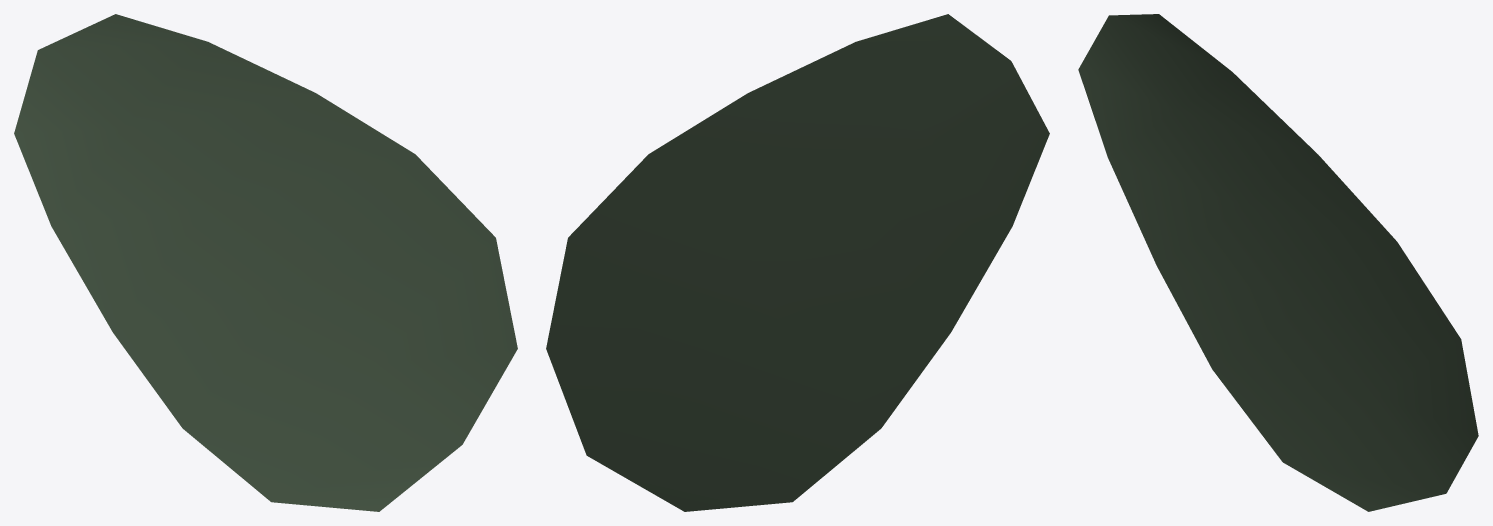
Rendered from duck_feather_flight_tertiary_058.obj.
The picture shows the model from 3 angles, left to right: view 1: azimuth 30°, elevation 25°; view 2: azimuth 150°, elevation 25°; view 3: azimuth 330°, elevation 25°; orthographic projection. The views are drawn at different scales.
Visible parts, largest first — view 1: feather_flight_tertiary_058; view 2: feather_flight_tertiary_058; view 3: feather_flight_tertiary_058.
Boxes of the visible parts, <box> form: feather_flight_tertiary_058: <box>14,14,517,511</box>; feather_flight_tertiary_058: <box>546,14,1049,511</box>; feather_flight_tertiary_058: <box>1078,14,1478,511</box>.
Bounding box in the file's own units: 0.0249 × 0.0266 × 0.000633.
